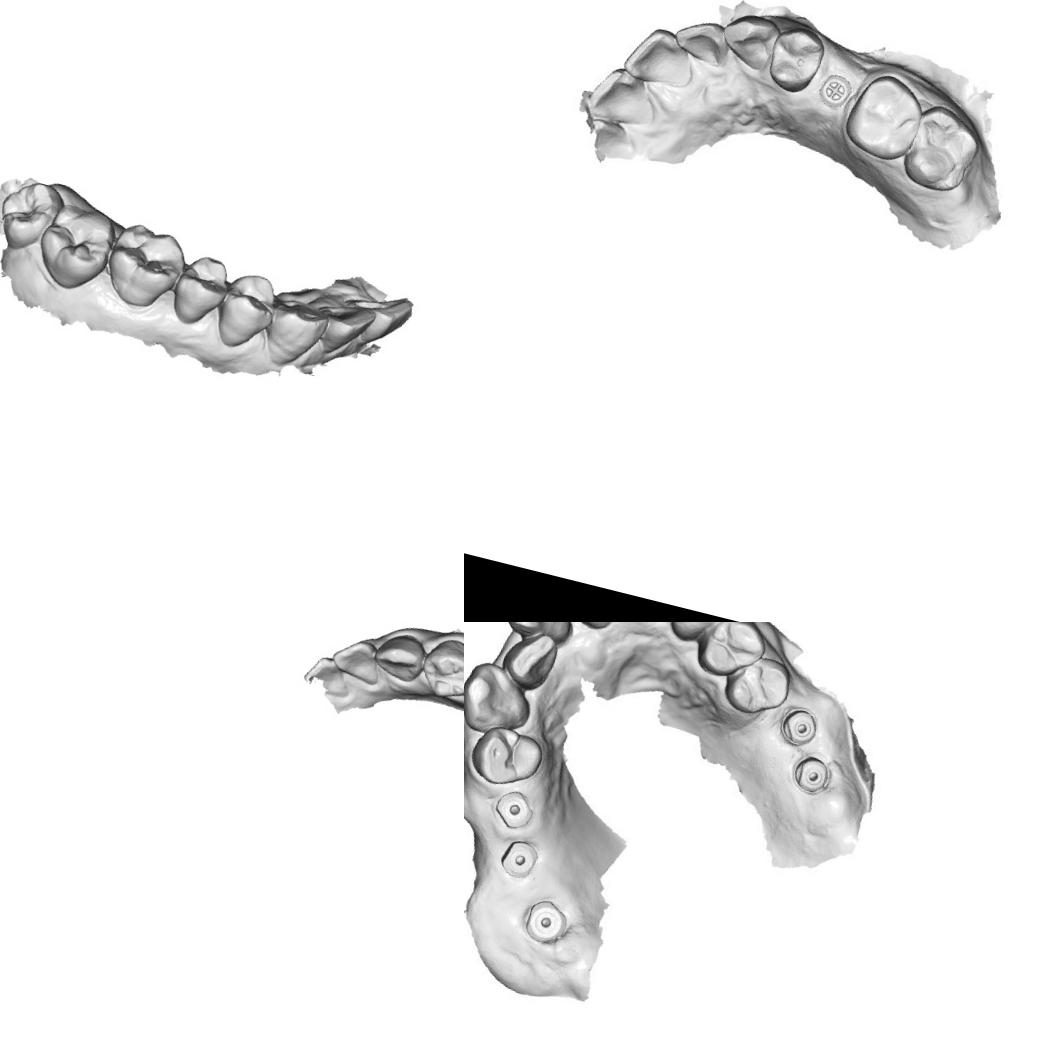canine: (464, 656, 545, 740), (258, 294, 331, 376), (712, 5, 782, 74), (366, 626, 426, 686), (657, 622, 731, 647)
implant: (521, 892, 571, 944), (497, 835, 543, 882), (776, 704, 818, 750), (790, 754, 833, 797), (494, 789, 532, 832)
implant_plus: (814, 67, 855, 114)
incisor: (619, 18, 701, 92), (584, 60, 665, 132), (352, 286, 416, 359), (311, 294, 377, 363), (668, 11, 734, 70), (502, 628, 562, 692), (324, 631, 386, 689), (504, 622, 585, 645)
molar: (98, 216, 192, 316), (29, 197, 121, 298), (837, 64, 929, 164), (897, 98, 989, 197), (0, 172, 68, 258)
premolar: (210, 266, 282, 354), (164, 249, 235, 333), (466, 719, 547, 792), (760, 23, 828, 98), (723, 651, 793, 720), (692, 622, 770, 683), (413, 630, 464, 703)
